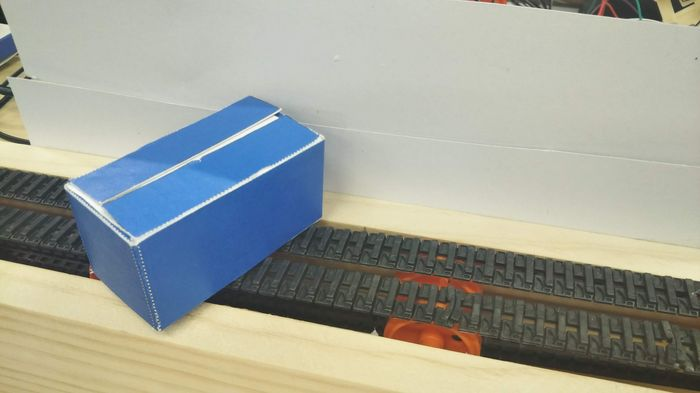box3: (63, 92, 326, 332)
